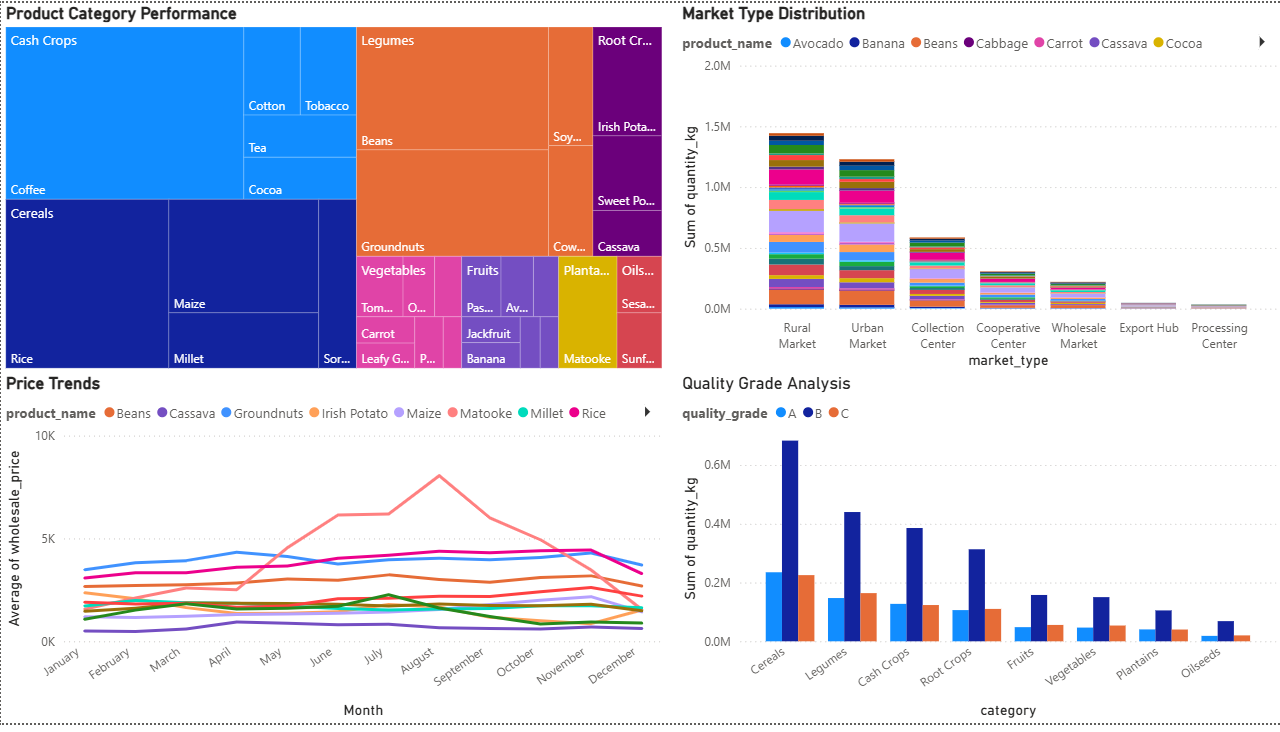

The dashboard page shown, as its layout file describes it:
{"tool":"powerbi","page":{"name":"Product & Market Analysis","canvas":[1280,720],"ordinal":2},"visuals":[{"type":"treemap","title":"Product Category Performance","fields":{"Group":["dw dim_product.category"],"Details":["dw dim_product.product_name"],"Values":["Sum(dw fact_transaction.total_amount)"]},"box":[0,0,666.2,370.4],"z":0},{"type":"lineChart","title":"Price Trends","fields":{"Category":["dw dim_date.full_date.Variation.Date Hierarchy.Month"],"Y":["Avg(dw fact_pricing.wholesale_price)"],"Series":["dw dim_product.product_name"]},"box":[0,370.4,666.2,350],"z":1000},{"type":"clusteredColumnChart","title":"Quality Grade Analysis","fields":{"Category":["dw dim_product.category"],"Y":["Sum(dw fact_transaction.quantity_kg)"],"Series":["dw dim_quality.quality_grade"]},"box":[676.4,370.4,604.1,350],"z":2000},{"type":"columnChart","title":"Market Type Distribution","fields":{"Category":["dw dim_market.market_type"],"Y":["Sum(dw fact_transaction.quantity_kg)"],"Series":["dw dim_product.product_name"]},"box":[676.2,0,603.8,370.4],"z":3000}]}

Visuals, with their boxes in screenshot pixels (x1, y1, x2, y2), scaled from the page's 1280x720 canvas onto the 1280x732 screenshot:
"Product Category Performance" treemap: [0,0,666,377]
"Price Trends" lineChart: [0,377,666,731]
"Quality Grade Analysis" clusteredColumnChart: [676,377,1279,731]
"Market Type Distribution" columnChart: [676,0,1279,377]
